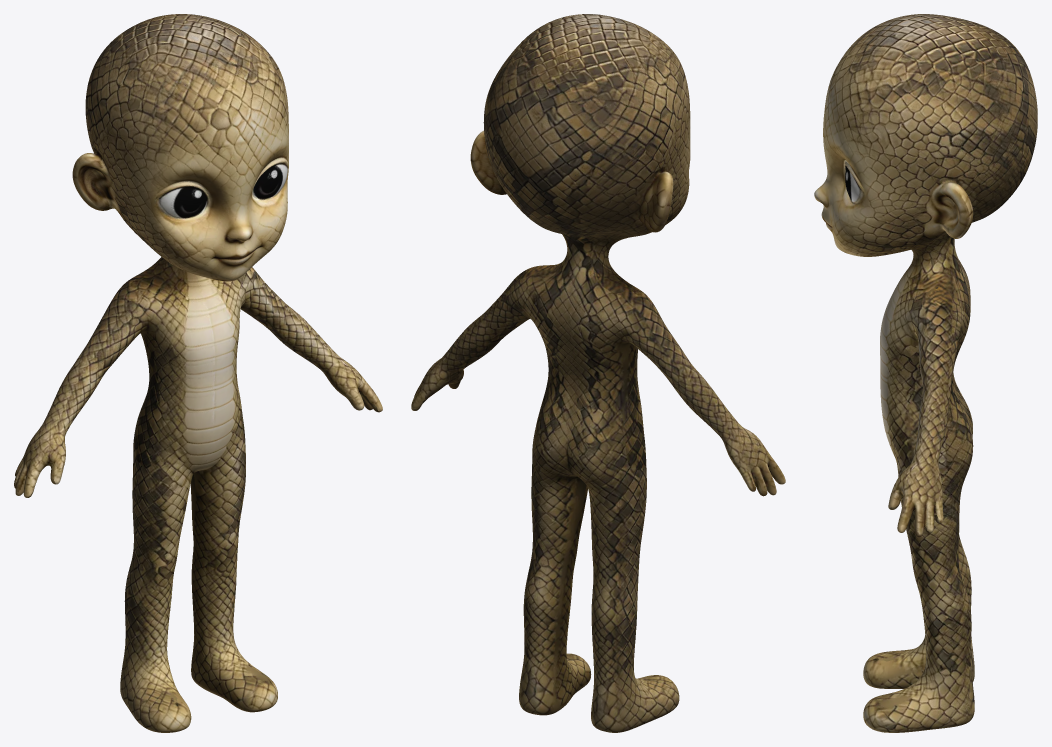
File: skin-serpiente-comprimida-BUttqhdS.glb
3 renders of one model, left to right at view 1: azimuth 30°, elevation 25°; view 2: azimuth 150°, elevation 25°; view 3: azimuth 270°, elevation 25°, orthographic.
Visible parts, largest first — view 1: char1; view 2: char1; view 3: char1.
Boxes of the visible parts, <box> form: char1: <box>14,14,382,732</box>; char1: <box>411,14,785,732</box>; char1: <box>814,14,1037,732</box>.
Size of the model in its own units: 0.5556 by 1 by 0.2984.
1 material, 1 textured.
